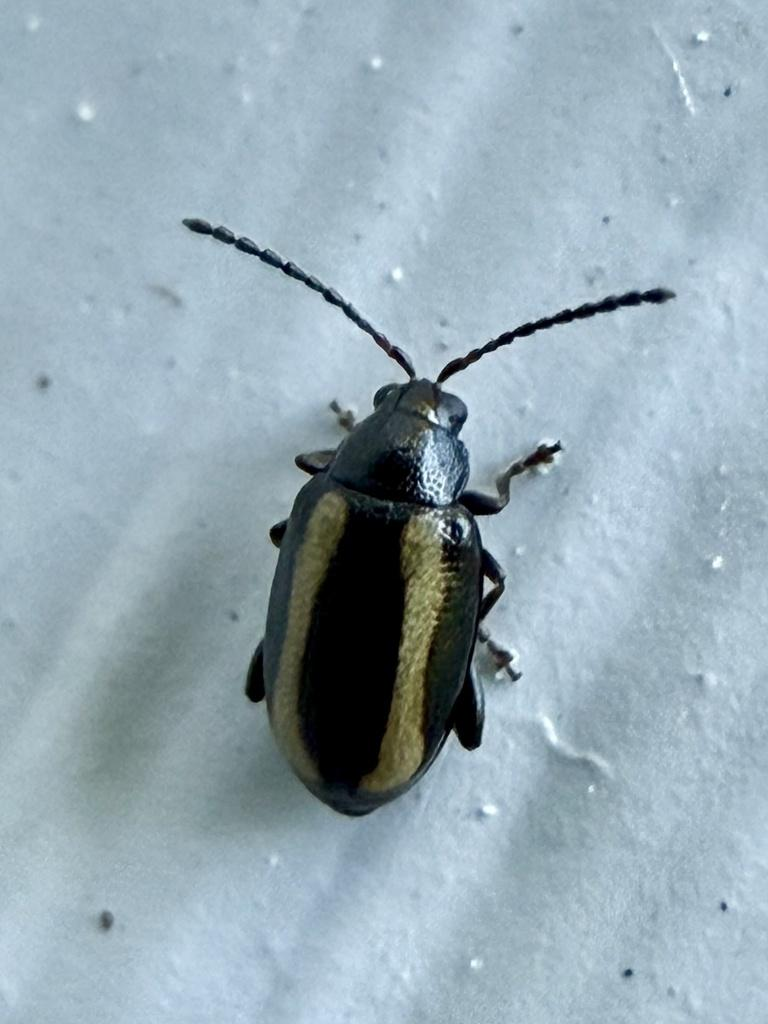flea_beetle: (147, 159, 687, 886)
